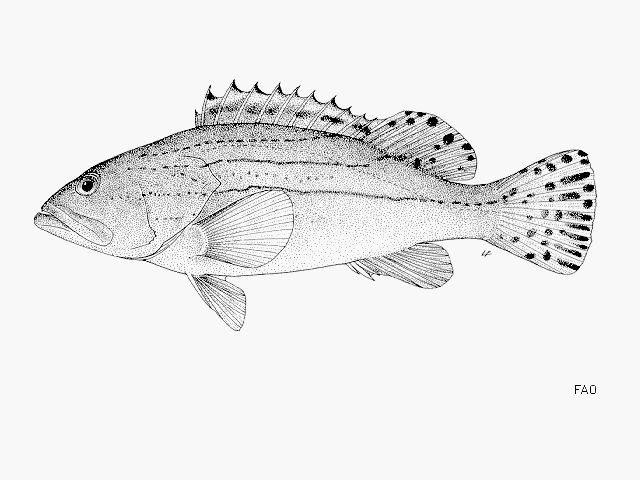fish: (33, 79, 599, 331)
